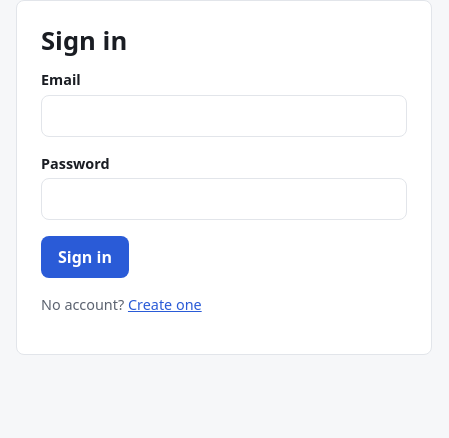
Test: LoginPage › shows the server message on a rejected sign-in
The width and height of the screenshot is (449, 438).
Type "user@test.com" into the field labelled "Email" at (224, 116), box x1=41 y1=95 x2=407 y2=137
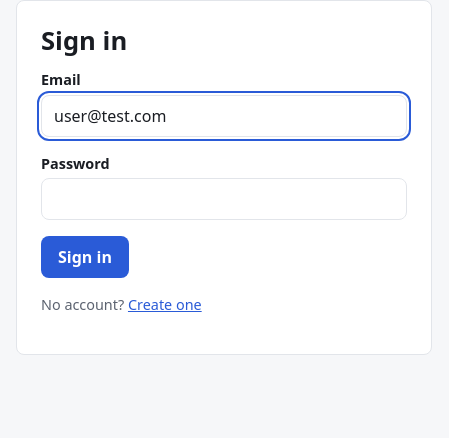
Type "Wrong@1234" into the password field labelled "Password" at (224, 199), box x1=41 y1=178 x2=407 y2=220
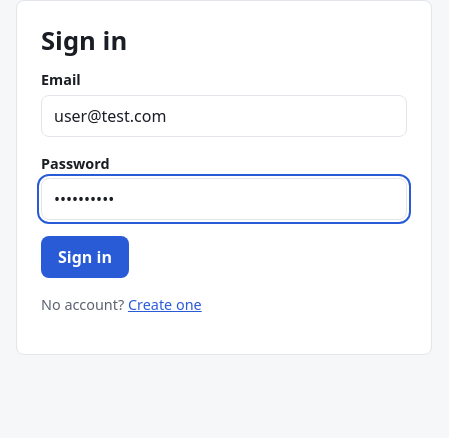
Click the button "Sign in" at (85, 257), box x1=41 y1=236 x2=129 y2=278
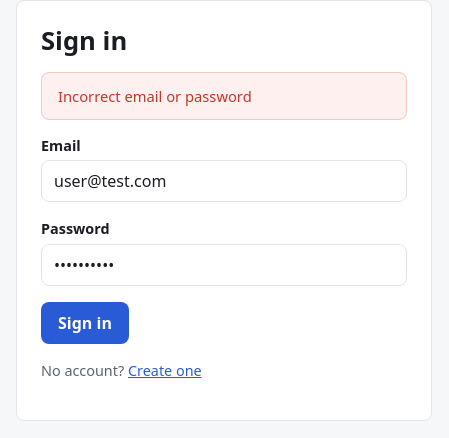
Now the message reads "Incorrect email or password", box x1=58 y1=86 x2=252 y2=106
